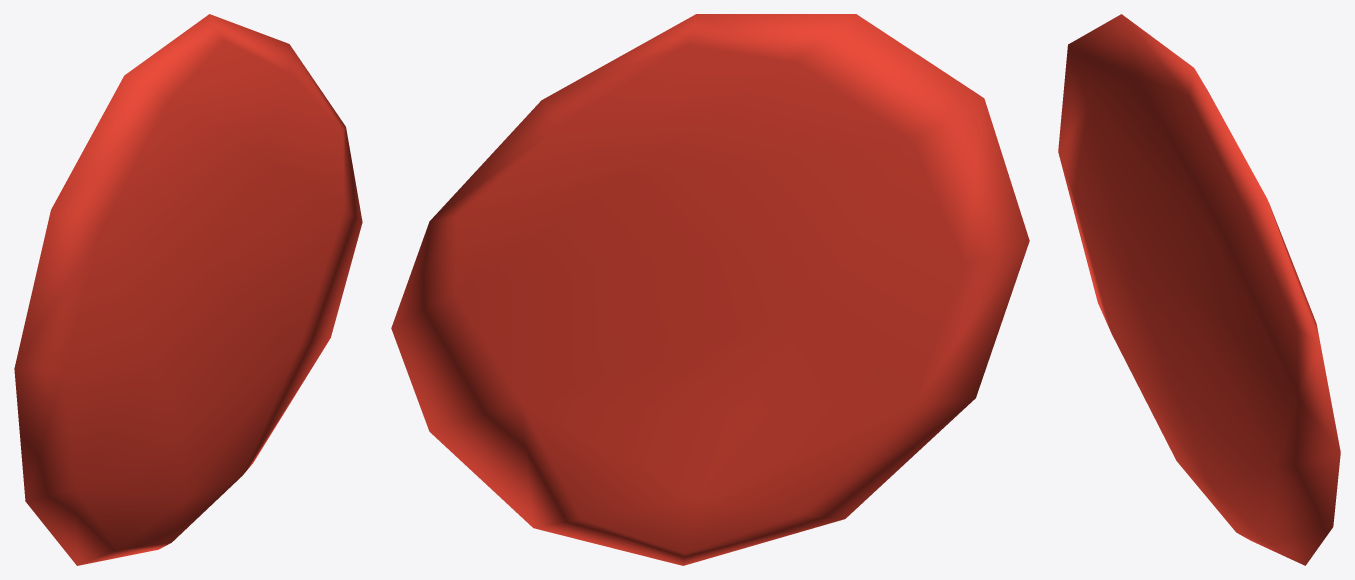
Rendered from Mentalis_insertion_left.glb.
3 views of the same model, side by side, from view 1: azimuth 30°, elevation 25°; view 2: azimuth 150°, elevation 25°; view 3: azimuth 270°, elevation 25° (orthographic). The views are drawn at different scales.
Visible parts, largest first — view 1: Mentalis_muscle-_Insertion.l_Generated_Mesh_From_X3D.772; view 2: Mentalis_muscle-_Insertion.l_Generated_Mesh_From_X3D.772; view 3: Mentalis_muscle-_Insertion.l_Generated_Mesh_From_X3D.772.
Part boxes in pixels (x1,y1,x2,y2): Mentalis_muscle-_Insertion.l_Generated_Mesh_From_X3D.772: [14, 14, 362, 565]; Mentalis_muscle-_Insertion.l_Generated_Mesh_From_X3D.772: [391, 14, 1029, 565]; Mentalis_muscle-_Insertion.l_Generated_Mesh_From_X3D.772: [1058, 14, 1340, 565].
Bounding box in the file's own units: 0.00574 × 0.00595 × 0.00317.
